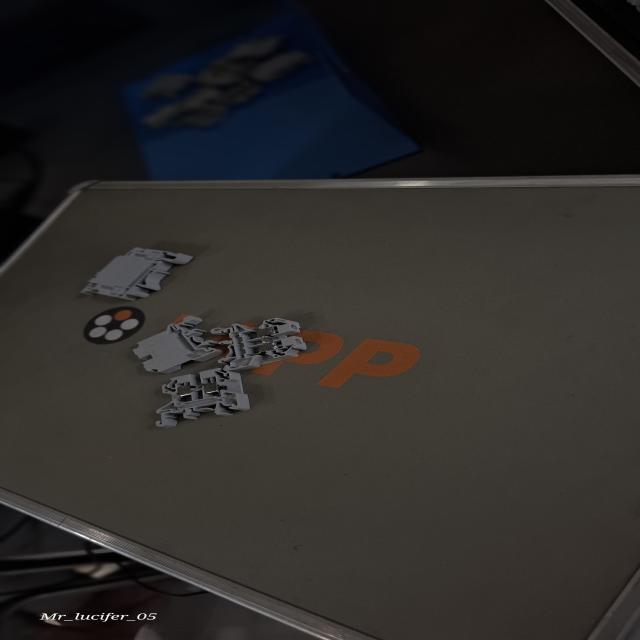Inverted: (117, 314, 219, 372)
Pass: (150, 367, 256, 429), (210, 316, 308, 372)
